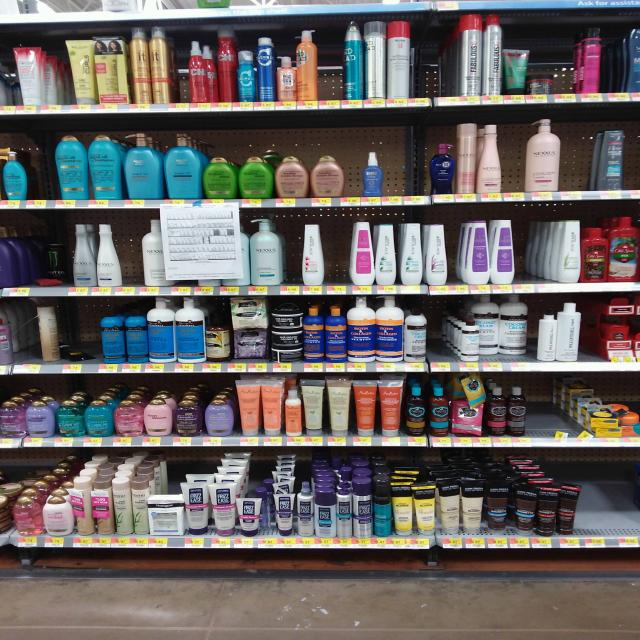empty: (570, 443, 640, 539), (557, 114, 612, 190), (381, 133, 432, 194), (317, 219, 361, 288), (521, 381, 574, 438), (20, 138, 61, 206), (162, 23, 195, 106), (318, 19, 347, 102), (547, 32, 585, 95), (114, 216, 142, 285), (339, 129, 366, 200), (281, 216, 300, 291)
